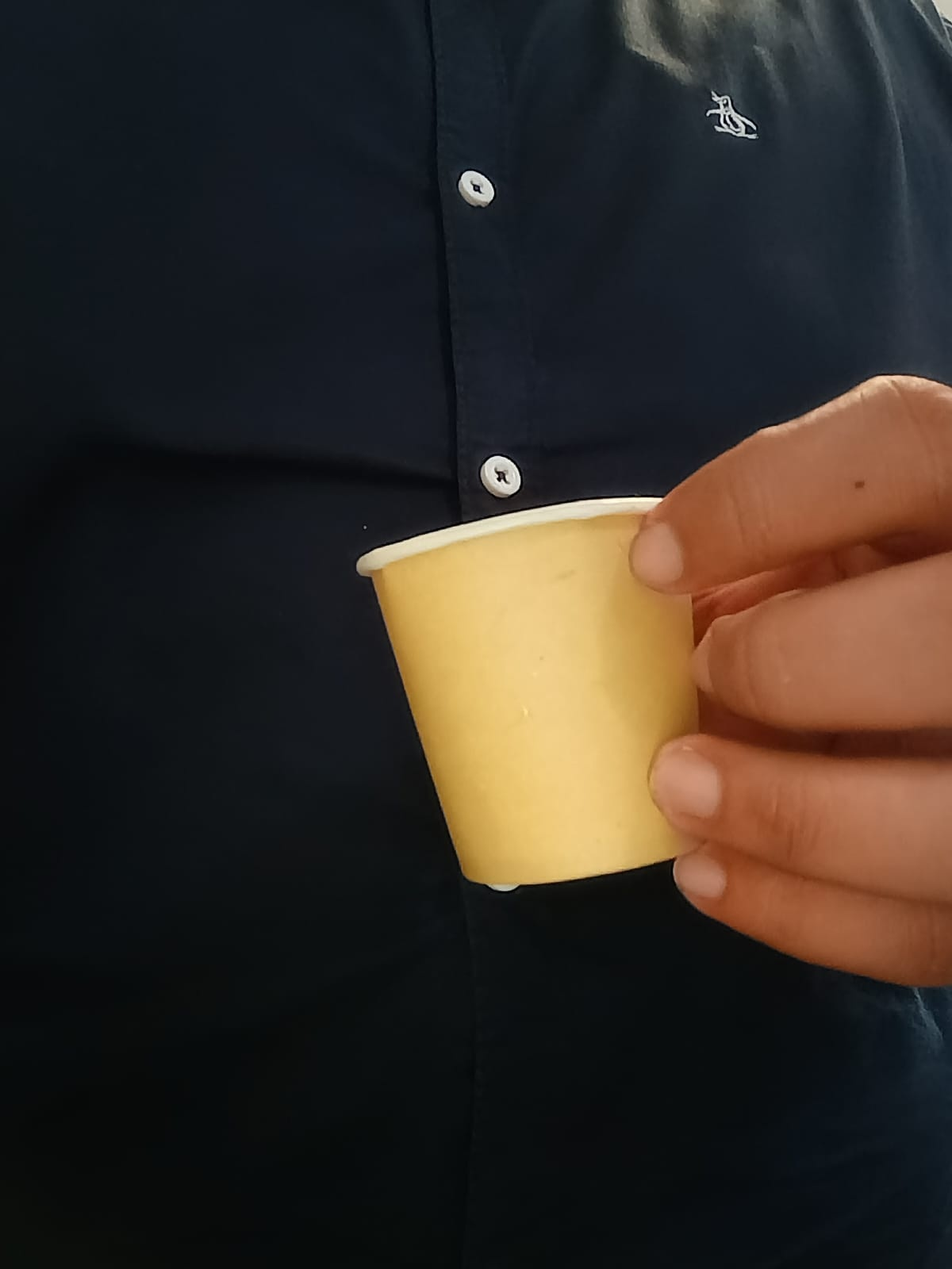Carton: (356, 497, 731, 885)
